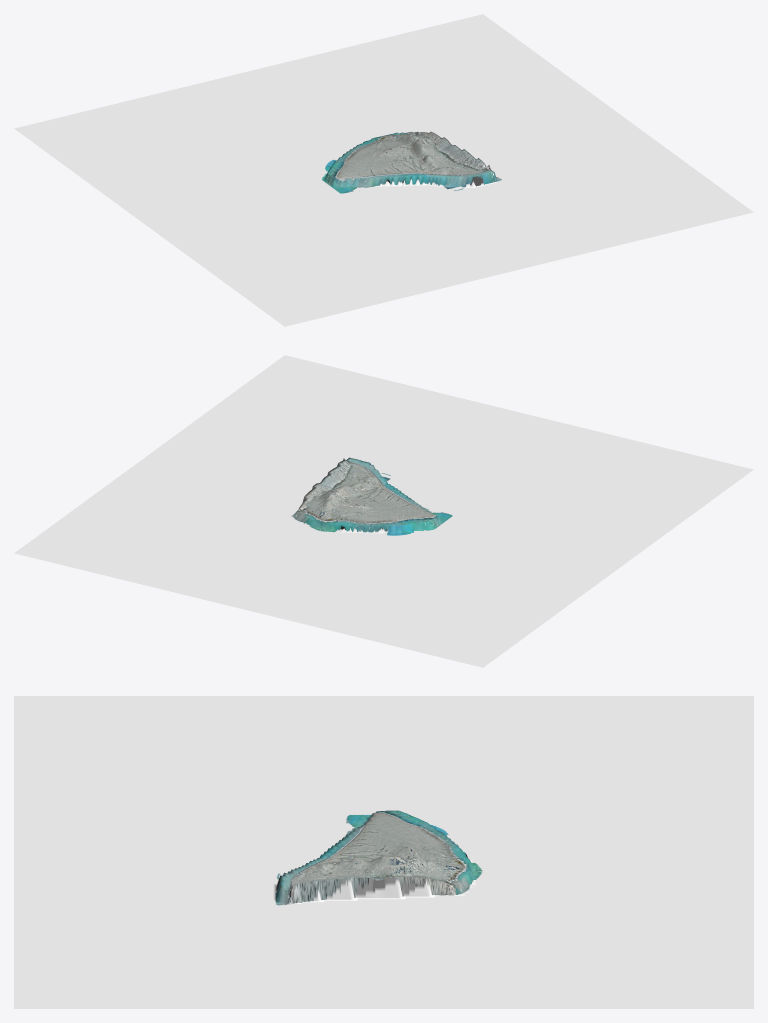
Rendered from petrel.gltf.
3 views of the same model, one above another, from view 1: azimuth 30°, elevation 25°; view 2: azimuth 150°, elevation 25°; view 3: azimuth 270°, elevation 25° (orthographic). The views are drawn at different scales.
Visible parts, largest first — view 1: Cortado (máscara); view 2: Cortado (máscara); view 3: Cortado (máscara).
Part boxes in pixels (x1,y1,x2,y2): Cortado (máscara): [14, 14, 753, 326]; Cortado (máscara): [14, 355, 753, 667]; Cortado (máscara): [14, 696, 753, 1008].
Size of the model in its own units: 9519 by 321 by 9519.
1 material, 1 textured.
